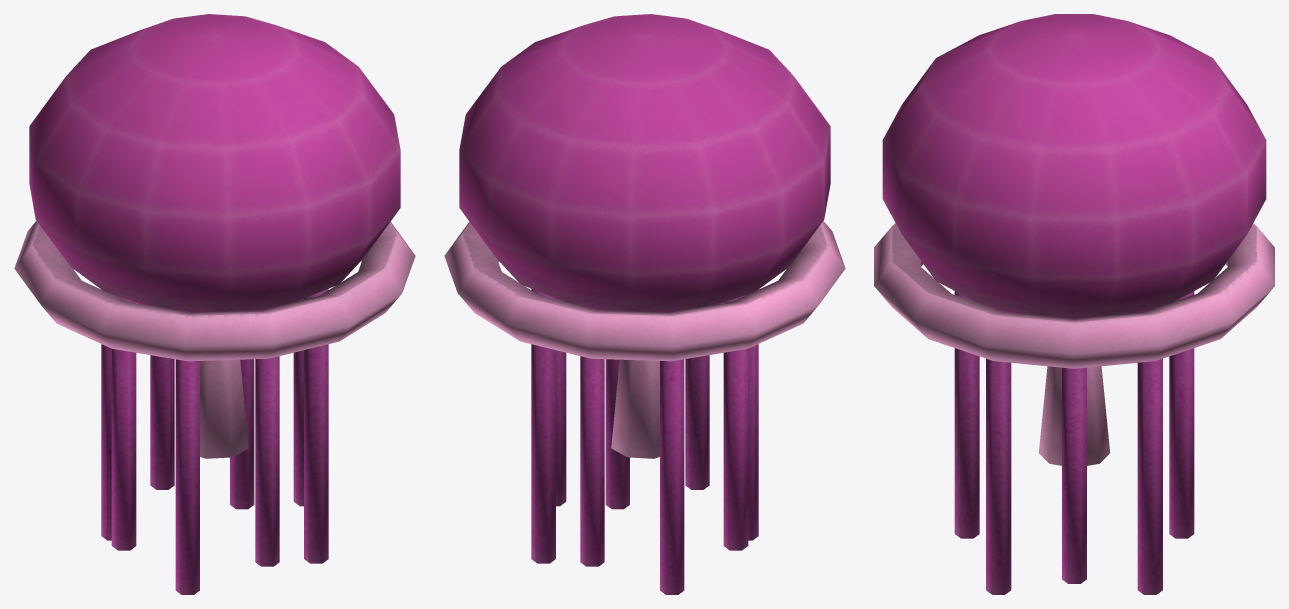
Rendered from Jellyfish.fbx.
3 views of the same model, side by side, from view 1: azimuth 30°, elevation 25°; view 2: azimuth 150°, elevation 25°; view 3: azimuth 270°, elevation 25° (orthographic). The views are drawn at different scales.
Visible parts, largest first — view 1: Jellyfish; view 2: Jellyfish; view 3: Jellyfish.
Boxes of the visible parts, bbox=[...] form: Jellyfish: bbox=[14, 14, 415, 594]; Jellyfish: bbox=[444, 14, 845, 594]; Jellyfish: bbox=[874, 14, 1274, 594].
Bounding box in the file's own units: 0.46 × 0.645 × 0.4485.
